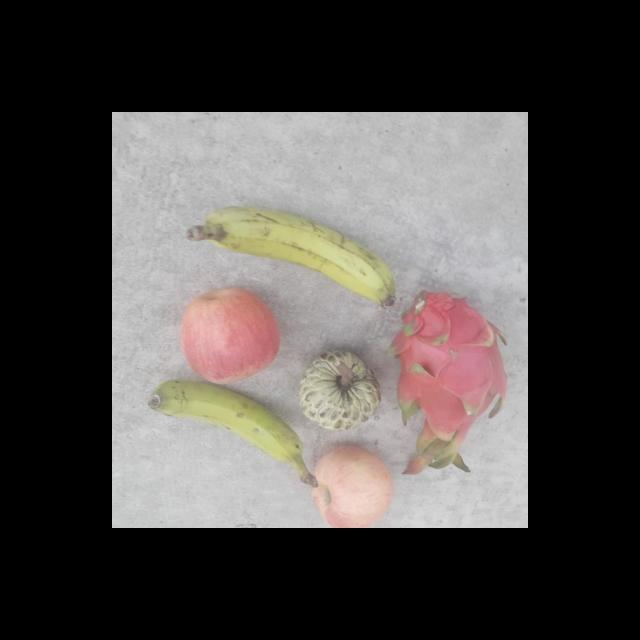Sakya fruit: (298, 348, 383, 432)
apple: (178, 288, 280, 384), (309, 443, 396, 528)
banana: (184, 206, 398, 308), (146, 381, 320, 487)
pitaya: (386, 288, 511, 474)
